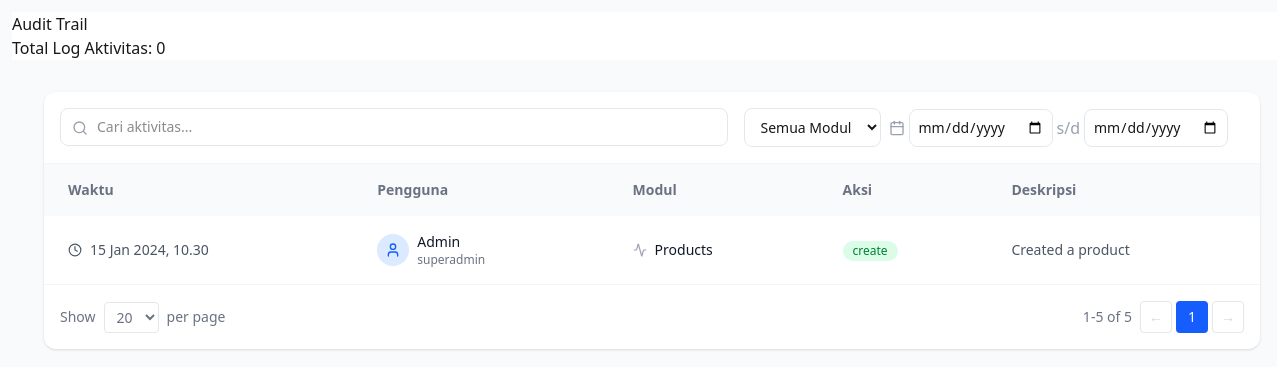
Test: AuditTrailsPage › resets all filters
Select "Products" in the dropdown showing "Semua Modul" in the row of "s/d". click: (812, 128)
box: top-left (744, 108), bottom-right (880, 147)
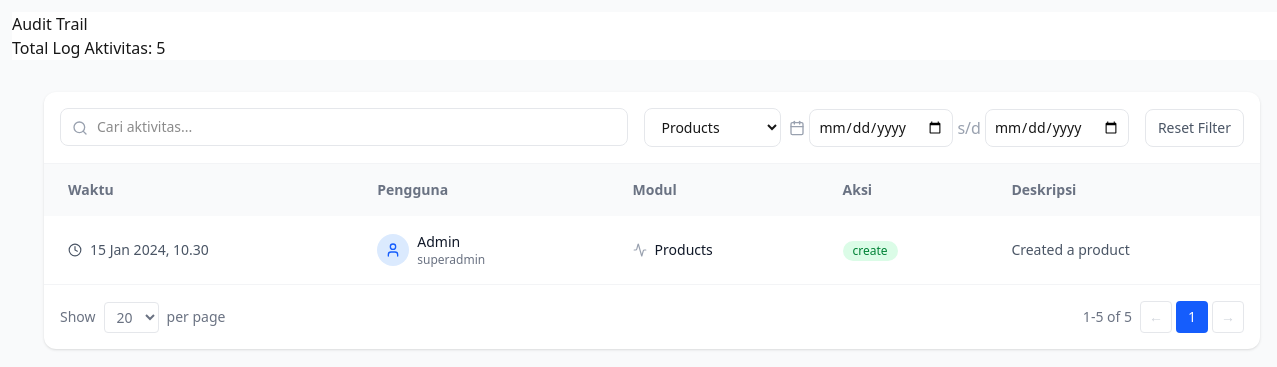
expect the button "Reset Filter" is shown: met
Click the button "Reset Filter". click: (1194, 128)
box: top-left (1145, 108), bottom-right (1244, 146)
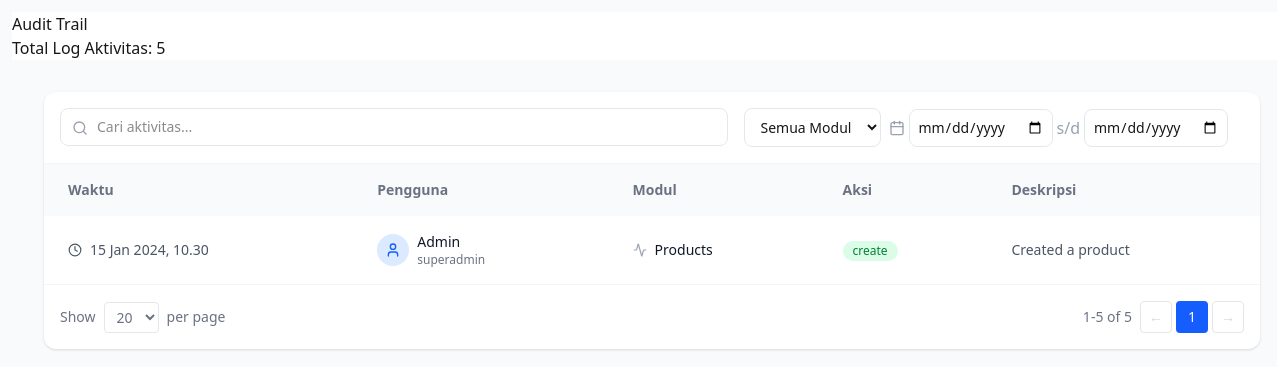
expect the button "Reset Filter" is gone: met
